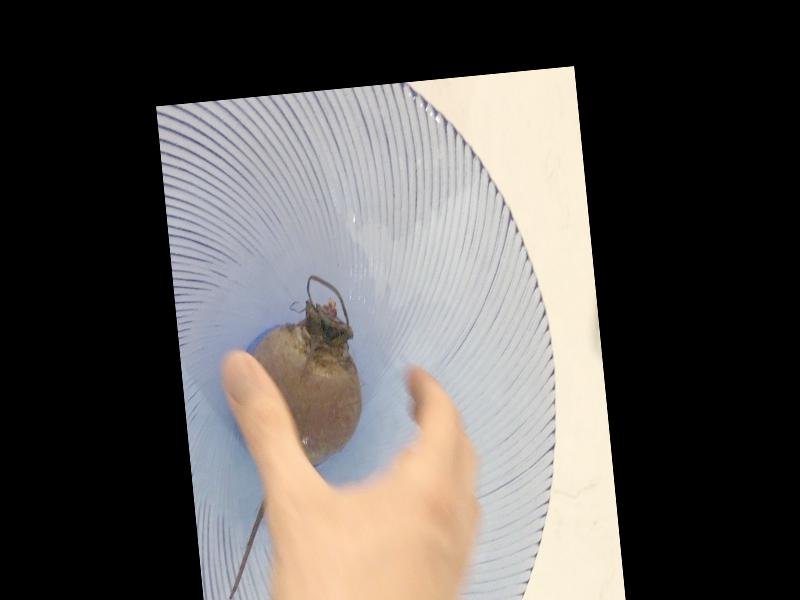Beet: (199, 271, 380, 599)
